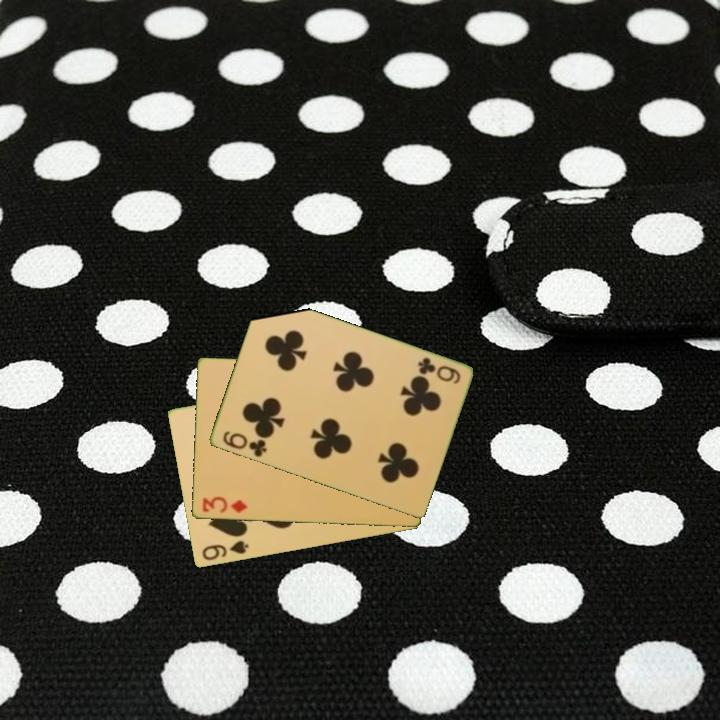3d: (199, 493, 249, 516)
6c: (219, 427, 269, 460), (414, 354, 463, 387)
9s: (198, 537, 251, 563)
